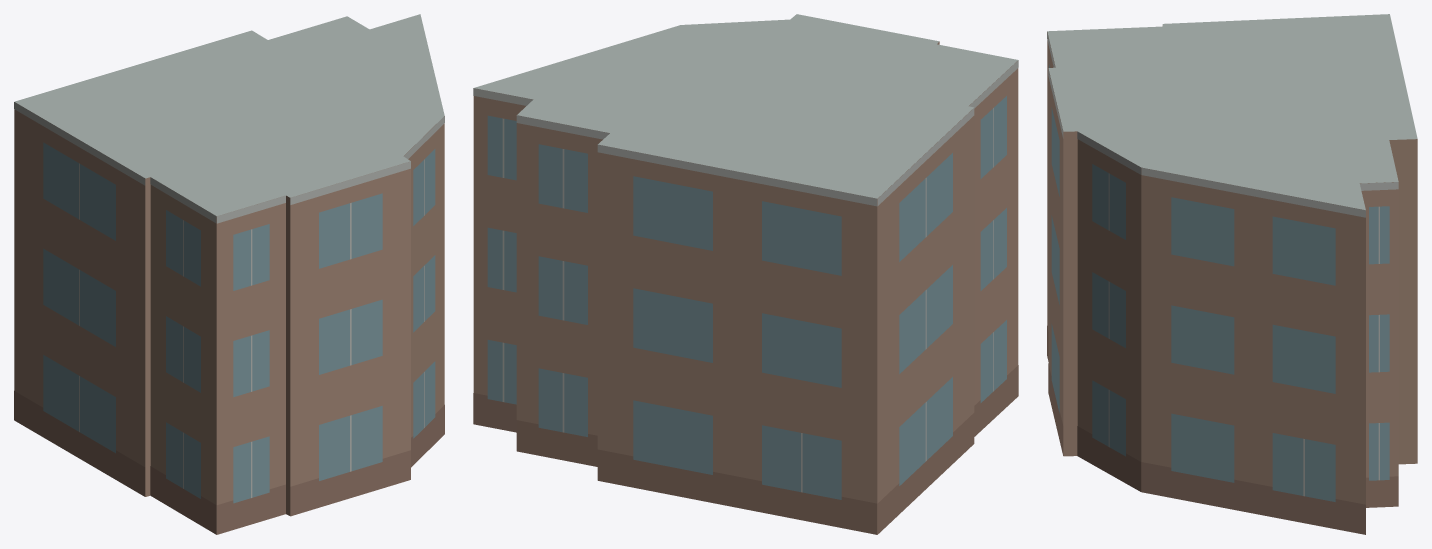
File: survey-upis-32702336.glb
3 views of the same model, side by side, from view 1: azimuth 30°, elevation 25°; view 2: azimuth 150°, elevation 25°; view 3: azimuth 270°, elevation 25° (orthographic). The views are drawn at different scales.
Parts seen in each view (by area): view 1: survey-upis-32702336.tmp; view 2: survey-upis-32702336.tmp; view 3: survey-upis-32702336.tmp.
Boxes of the visible parts, <box> form: survey-upis-32702336.tmp: <box>14,14,444,534</box>; survey-upis-32702336.tmp: <box>473,14,1018,534</box>; survey-upis-32702336.tmp: <box>1047,14,1417,534</box>.
Size of the model in its own units: 13.62 by 10.5 by 10.87.
